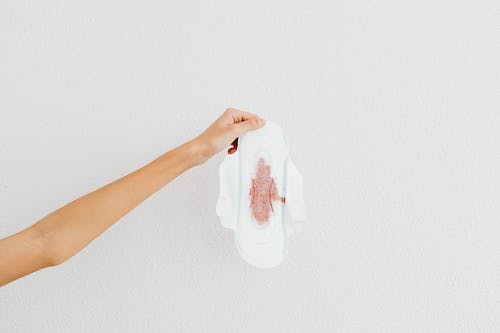blood: (248, 156, 286, 226)
